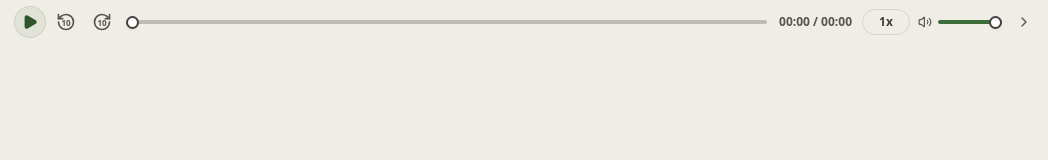
Test: AudioPlayer › colours the played part of the scrubber up to its thumb, with or without a known duration
The width and height of the screenshot is (1048, 160).
Click the button named "Avanti di 10 secondi".
click(102, 22)  # box [86,6,118,38]
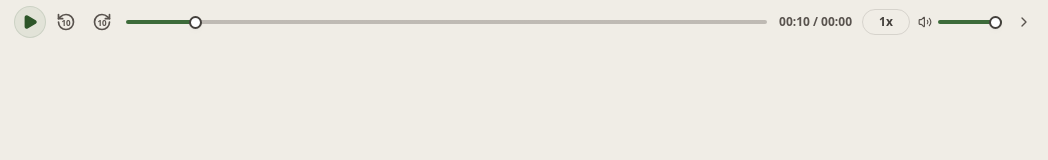
Expected: the slider named "Posizione audio" holds "10", [126,20,767,24]
